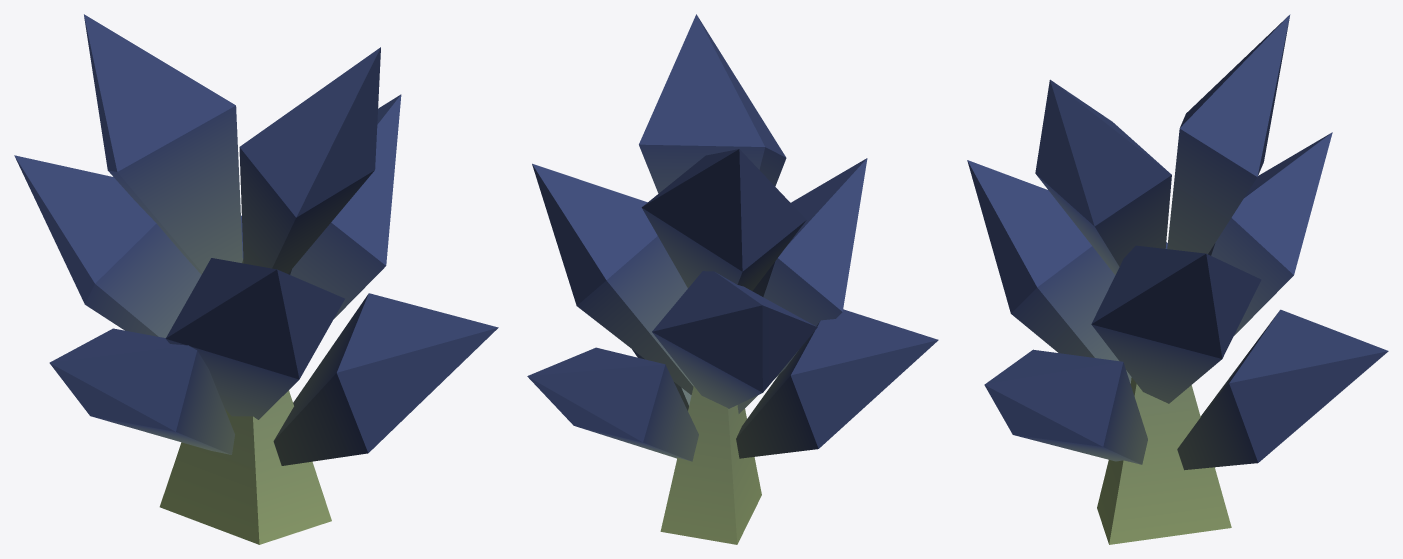
Rendered from Parasite.glb.
3 views of the same model, side by side, from view 1: azimuth 30°, elevation 25°; view 2: azimuth 150°, elevation 25°; view 3: azimuth 270°, elevation 25° (orthographic). The views are drawn at different scales.
Parts seen in each view (by area): view 1: Parasite; view 2: Parasite; view 3: Parasite.
Boxes of the visible parts, box(x1,y1,x2,y2) form: Parasite: box(14, 14, 498, 544); Parasite: box(527, 14, 938, 544); Parasite: box(967, 14, 1388, 544).
Size of the model in its own units: 0.7408 by 0.8668 by 0.6988.
